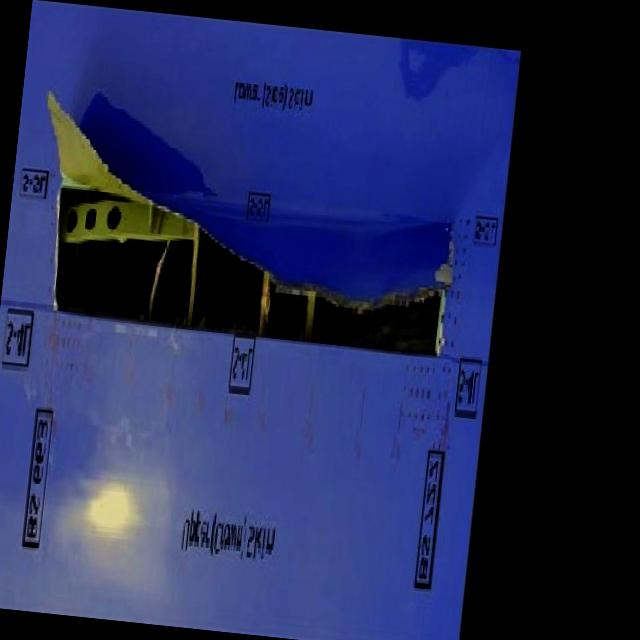crack: (21, 90, 471, 357)
